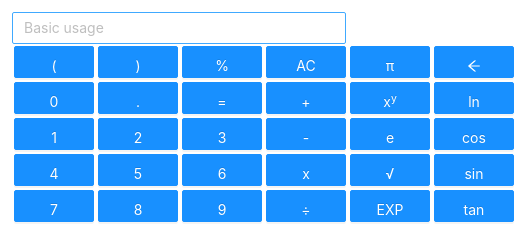
it: Basic Calculator Test › Calculator Calculate function › Addition Functionality › Simple addition calculation
The width and height of the screenshot is (531, 241).
Click the button named "one-button" at [54, 134], box [14,118,94,150]
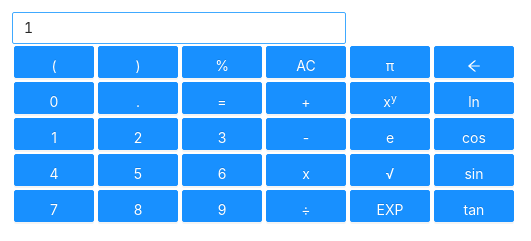
Click the button named "plus-button" at [306, 98], box [266,82,346,114]
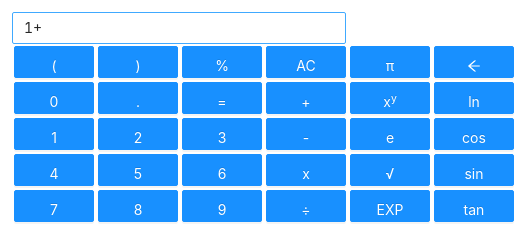
Click the button named "two-button" at [138, 134], box [98,118,178,150]
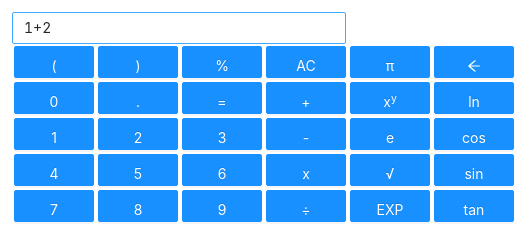
Click the button named "equals-button" at [222, 98], box [182,82,262,114]
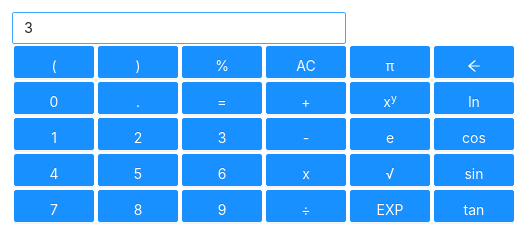
Now the field named "basic-calculator-display" holds "3", box [12,12,346,44]
